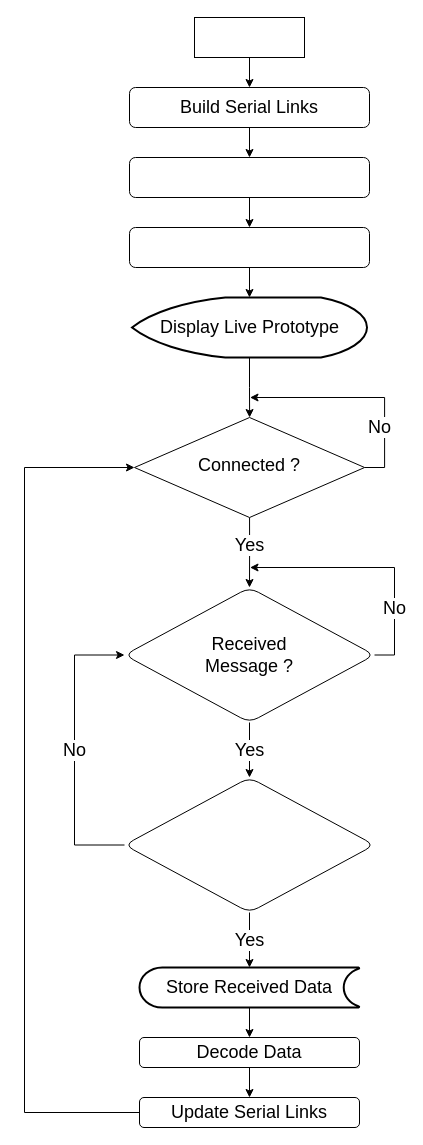
This 423x1145 diagram has some shape labels left out. Each missing label, with the centre of its shape:
Initialize Socket Connection: (x=249, y=247)
Is Data Valid ?: (x=249, y=844)
Set Angle Limits: (x=249, y=177)
Start: (x=249, y=37)
